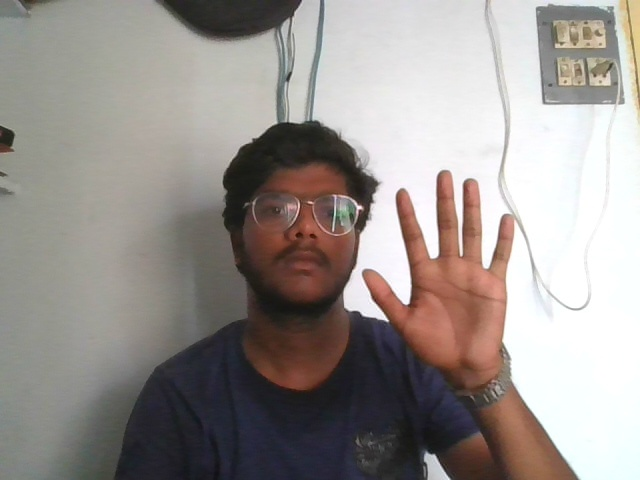Hello: (360, 167, 521, 377)
